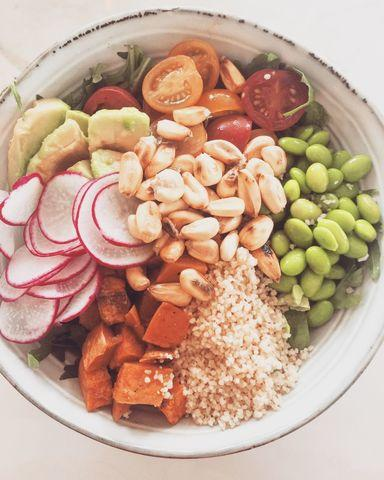tomato: (145, 47, 222, 109)
